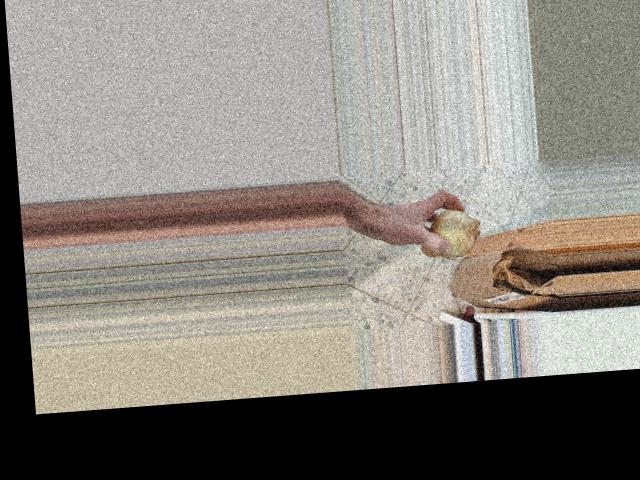onion: (417, 203, 484, 262)
